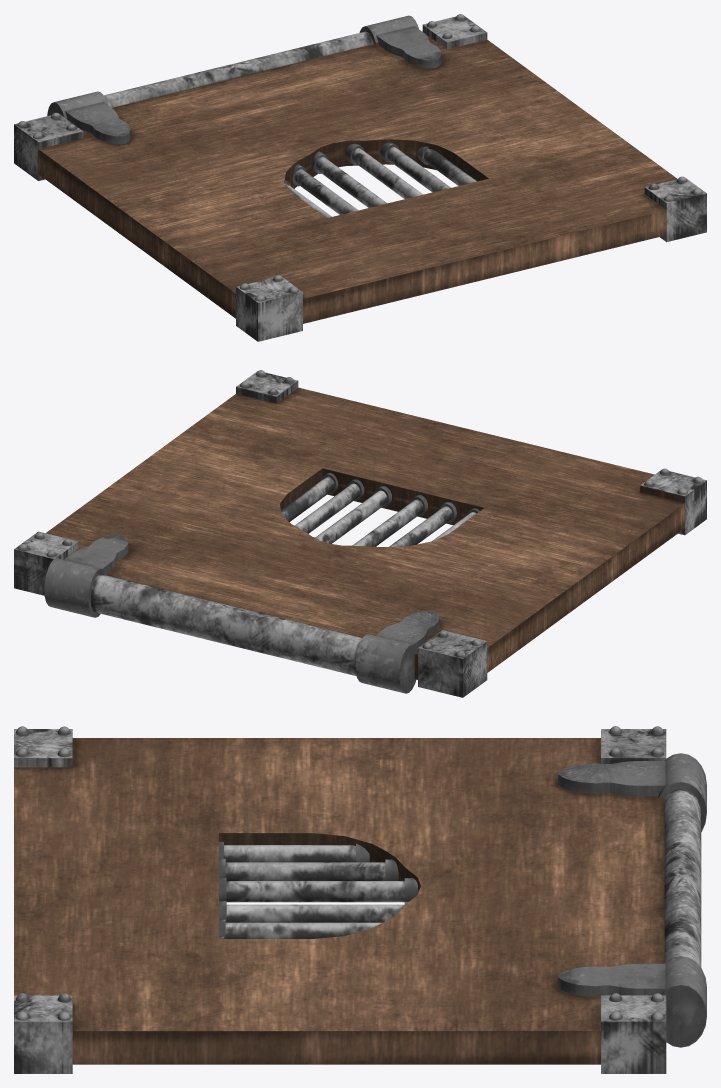
File: trapdoor.glb
3 views of the same model, one above another, from view 1: azimuth 30°, elevation 25°; view 2: azimuth 150°, elevation 25°; view 3: azimuth 270°, elevation 25° (orthographic). The views are drawn at different scales.
Parts seen in each view (by area): view 1: pCube6_aiStandardSurface2_0; view 2: pCube6_aiStandardSurface2_0; view 3: pCube6_aiStandardSurface2_0.
Part boxes in pixels (<box>): pCube6_aiStandardSurface2_0: <box>14,14,706,341</box>; pCube6_aiStandardSurface2_0: <box>14,370,706,697</box>; pCube6_aiStandardSurface2_0: <box>14,726,706,1073</box>.
Bounding box in the file's own units: 2 × 0.2 × 2.
Materials: 1 (1 with a texture image).
